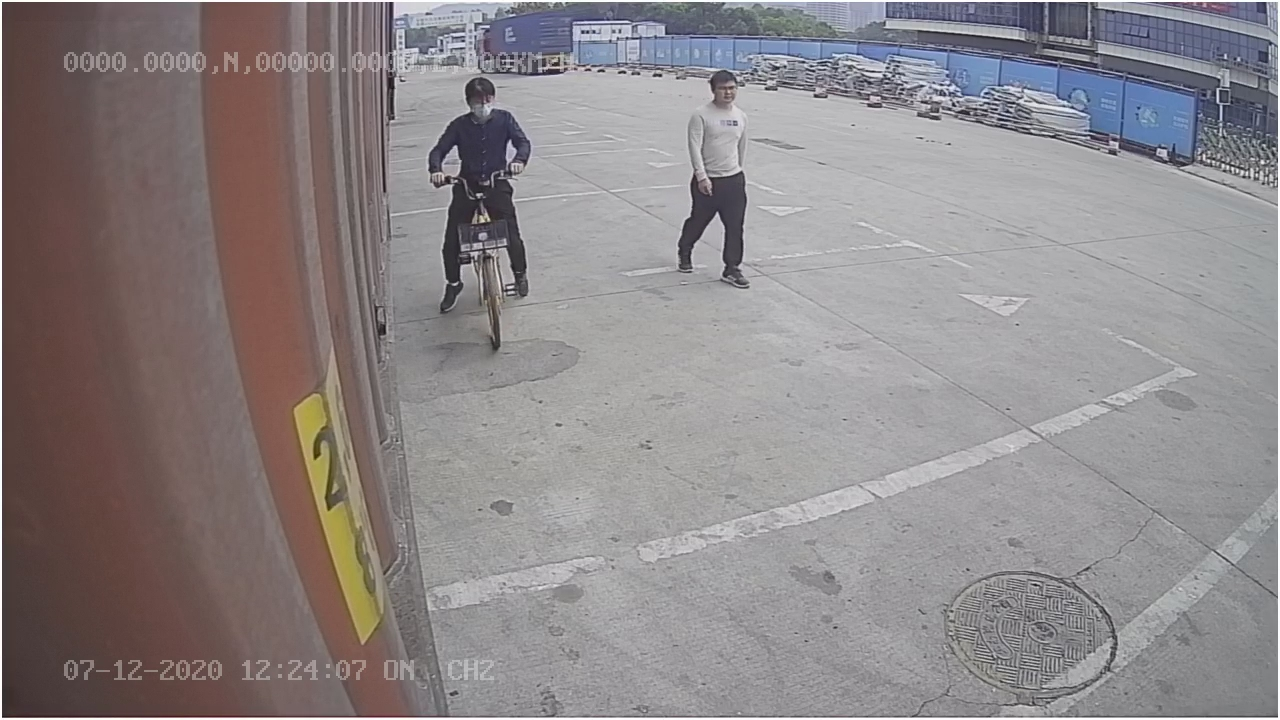person: (668, 65, 757, 297)
